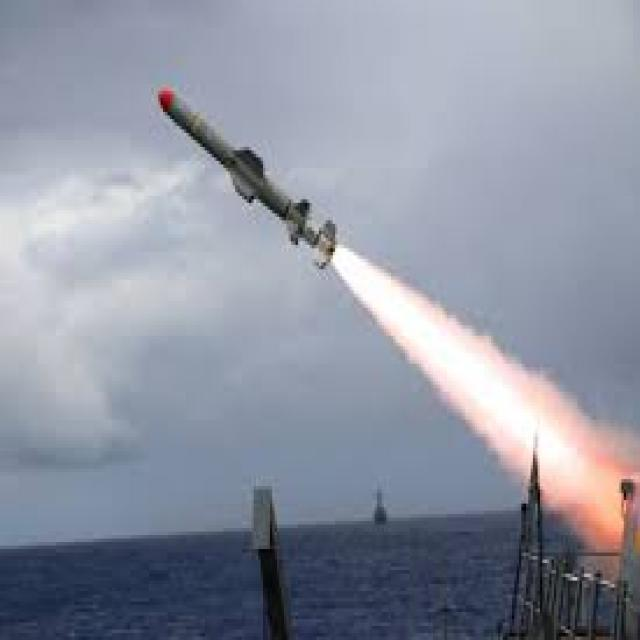missile: (152, 84, 340, 271)
